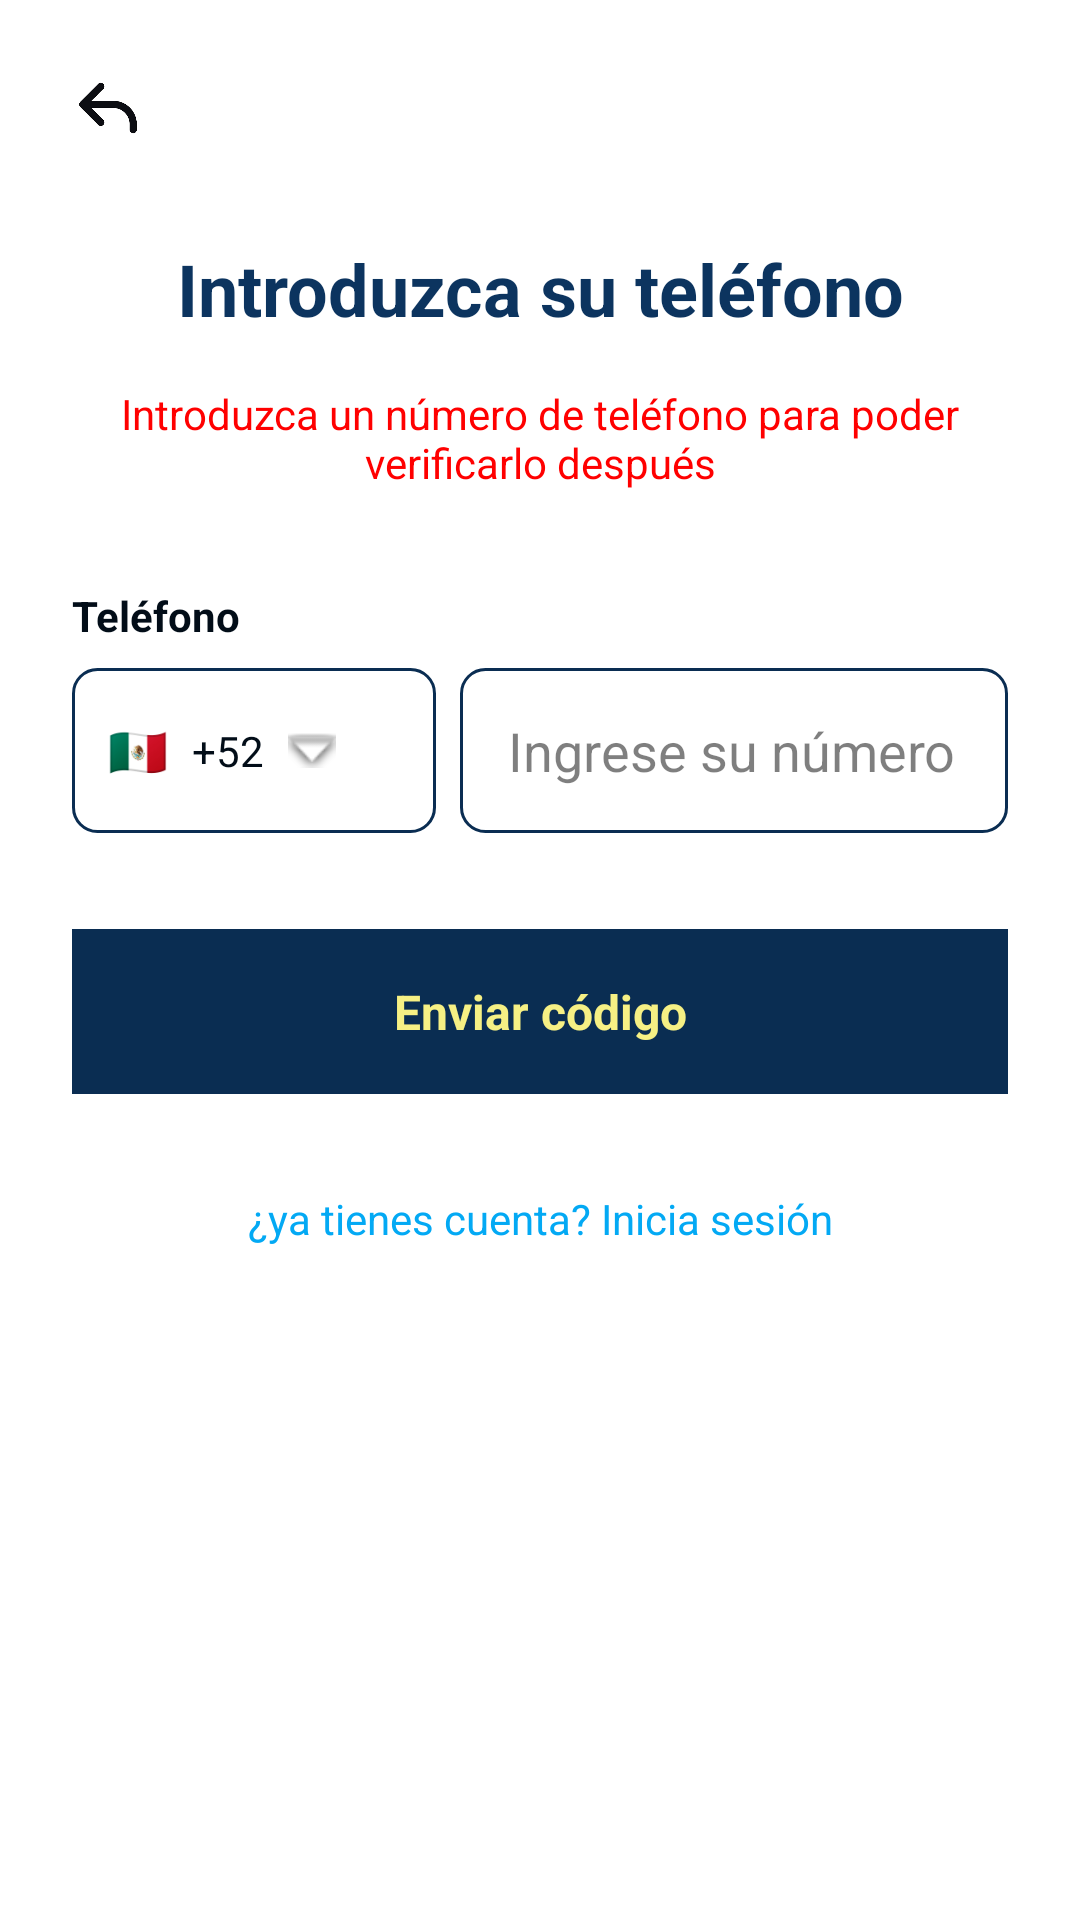

Icon click points for this 1080 × 1920 phone screenshot, format [x,y]:
arrow down float: [312,750]
flecha: [108,108]
